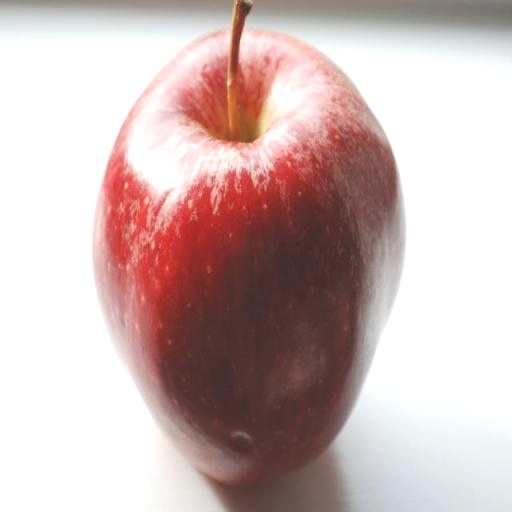fruit: (94, 32, 404, 484)
